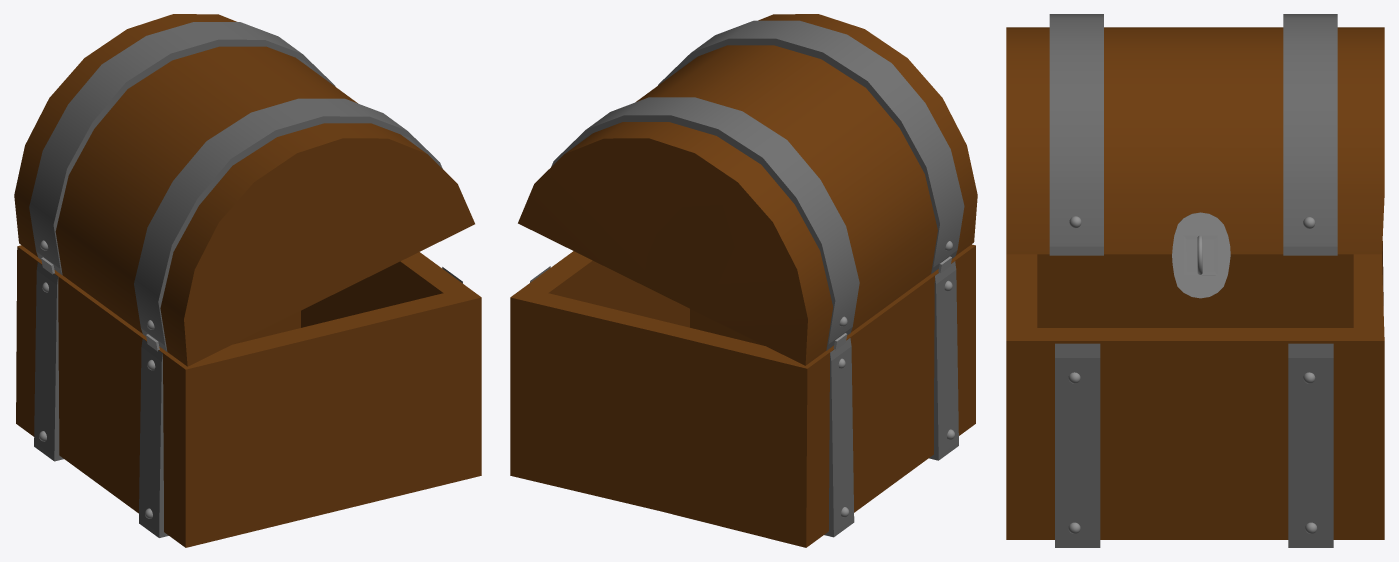
The model's file is coffrenuit003.fbx.
The picture shows the model from 3 angles, left to right: view 1: azimuth 30°, elevation 25°; view 2: azimuth 150°, elevation 25°; view 3: azimuth 270°, elevation 25°; orthographic projection. The views are drawn at different scales.
Visible parts, largest first — view 1: polySurface30, polySurface19, polySurface28, polySurface18; view 2: polySurface30, polySurface19, polySurface18, polySurface28; view 3: polySurface30, polySurface19, polySurface18, polySurface28.
Part boxes in pixels (box(x1,y1,x2,y2)): polySurface30: box(14, 14, 474, 366); polySurface19: box(16, 245, 481, 547); polySurface28: box(139, 267, 462, 537); polySurface18: box(34, 262, 63, 461); polySurface30: box(518, 14, 977, 365); polySurface19: box(510, 244, 975, 547); polySurface18: box(530, 266, 854, 537); polySurface28: box(929, 261, 958, 460); polySurface30: box(1006, 14, 1384, 298); polySurface19: box(1006, 241, 1384, 539); polySurface18: box(1288, 343, 1333, 547); polySurface28: box(1055, 343, 1100, 547).
Size of the model in its own units: 4.51 by 5.22 by 4.18.
